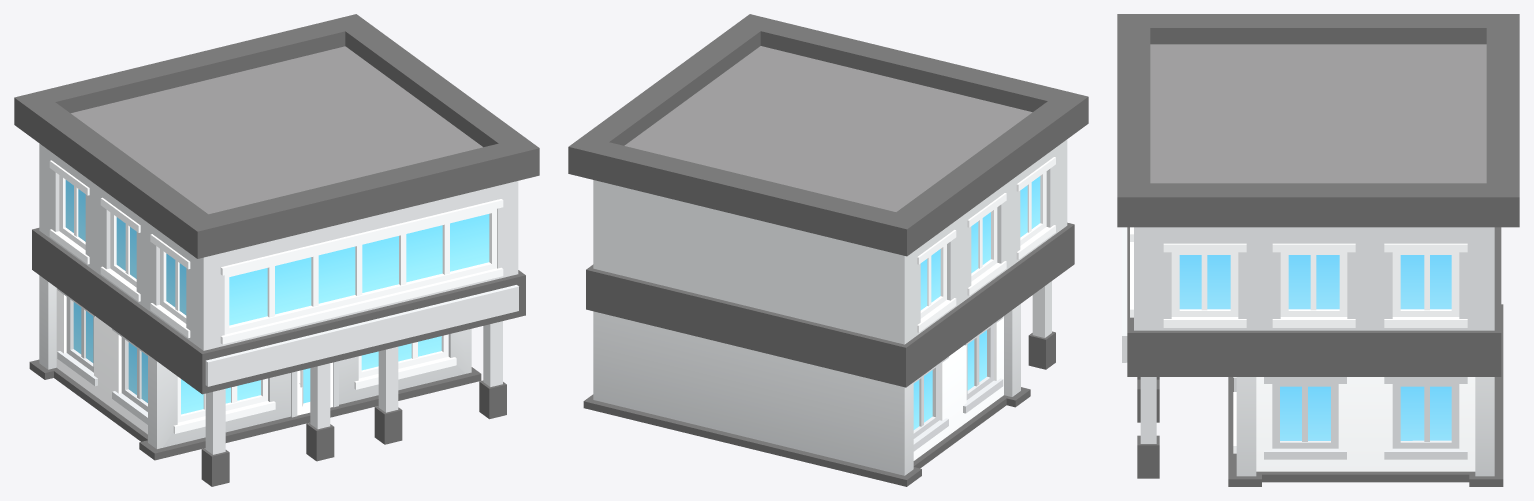
The model's file is Building_Living_36.glb.
The picture shows the model from 3 angles, left to right: view 1: azimuth 30°, elevation 25°; view 2: azimuth 150°, elevation 25°; view 3: azimuth 270°, elevation 25°; orthographic projection. The views are drawn at different scales.
Visible parts, largest first — view 1: Building_Living_36; view 2: Building_Living_36; view 3: Building_Living_36.
Part boxes in pixels (<box>): Building_Living_36: <box>14,14,539,486</box>; Building_Living_36: <box>568,14,1088,486</box>; Building_Living_36: <box>1117,14,1519,486</box>.
Size of the model in its own units: 10.33 by 7.72 by 9.59.
1 material, 1 textured.
